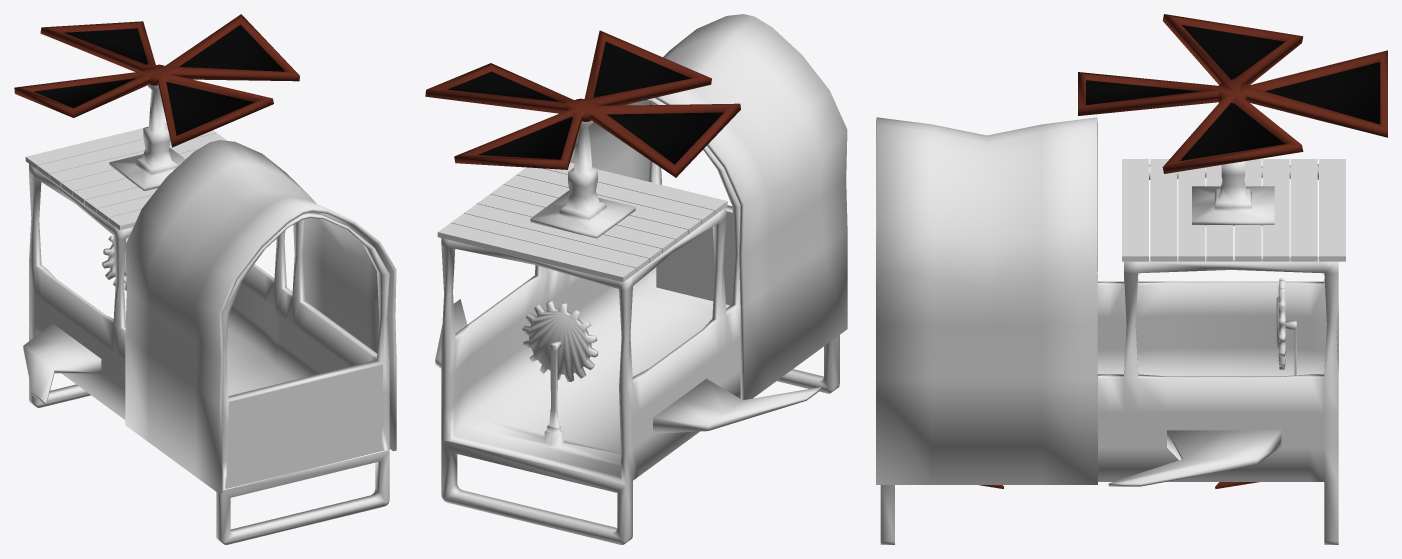
Rendered from Caravan.fbx.
3 views of the same model, side by side, from view 1: azimuth 30°, elevation 25°; view 2: azimuth 150°, elevation 25°; view 3: azimuth 270°, elevation 25° (orthographic). The views are drawn at different scales.
Visible parts, largest first — view 1: Caravan, Cloth, Helic, WoodTiles, Caravan.002, Main_Holder, Circle; view 2: Caravan, Cloth, Helic, WoodTiles, Main_Holder, Caravan.002, Circle; view 3: Cloth, Caravan, Helic, WoodTiles, Caravan.001, Main_Holder, Circle.
Boxes of the visible parts, box(x1,y1,x2,y2) form: Caravan: box(29, 164, 389, 544); Cloth: box(125, 140, 396, 493); Helic: box(14, 14, 299, 147); WoodTiles: box(25, 122, 227, 230); Caravan.002: box(23, 324, 101, 404); Main_Holder: box(109, 84, 185, 190); Circle: box(102, 236, 128, 290); Caravan: box(441, 98, 839, 544); Cloth: box(570, 14, 847, 399); Helic: box(425, 30, 740, 177); WoodTiles: box(437, 162, 727, 282); Main_Holder: box(530, 120, 635, 238); Caravan.002: box(653, 378, 821, 433); Circle: box(522, 301, 598, 381); Cloth: box(876, 117, 1097, 484); Caravan: box(880, 164, 1338, 544); Helic: box(1078, 14, 1387, 173); WoodTiles: box(1122, 159, 1345, 261); Caravan.001: box(1108, 430, 1281, 486); Main_Holder: box(1192, 161, 1274, 225); Circle: box(1276, 278, 1285, 369).
Bounding box in the file's own units: 391 × 404 × 447.
